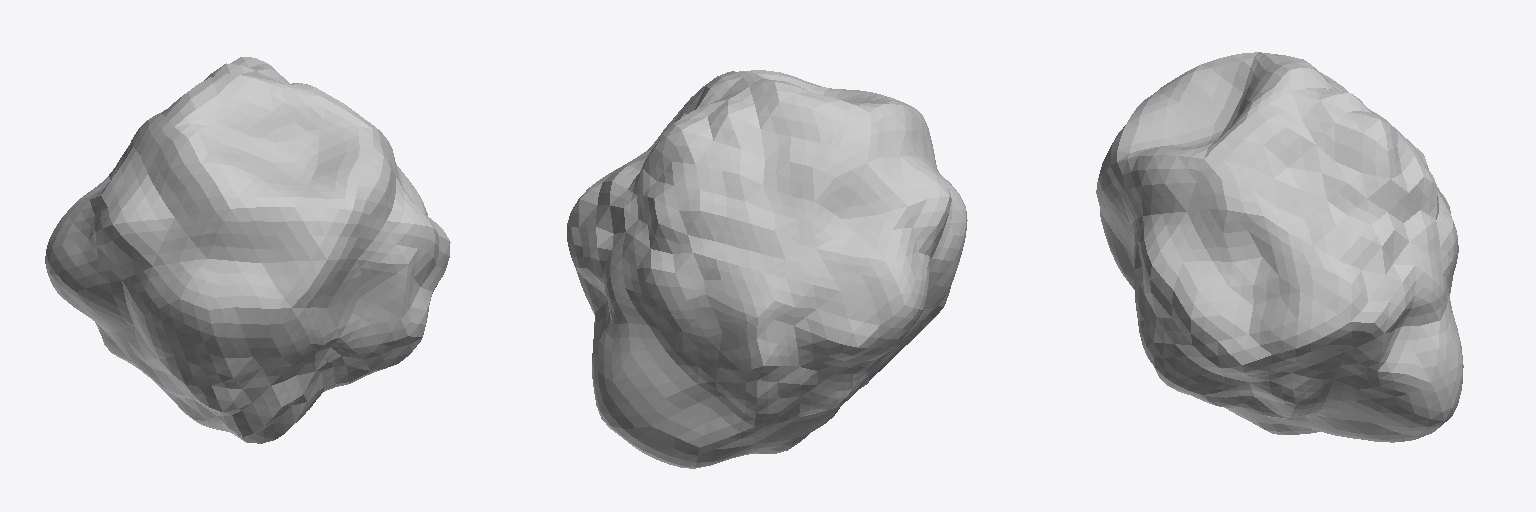
The model's file is asteroid_3.obj.
The picture shows the model from 3 angles: view 1: azimuth 30°, elevation 25°; view 2: azimuth 150°, elevation 25°; view 3: azimuth 270°, elevation 25°; orthographic projection.
Bounding box in the file's own units: 2.58 × 2.52 × 2.33.